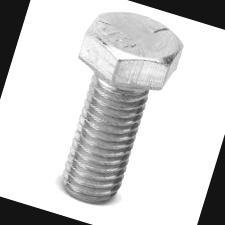screw: (71, 0, 187, 100)
